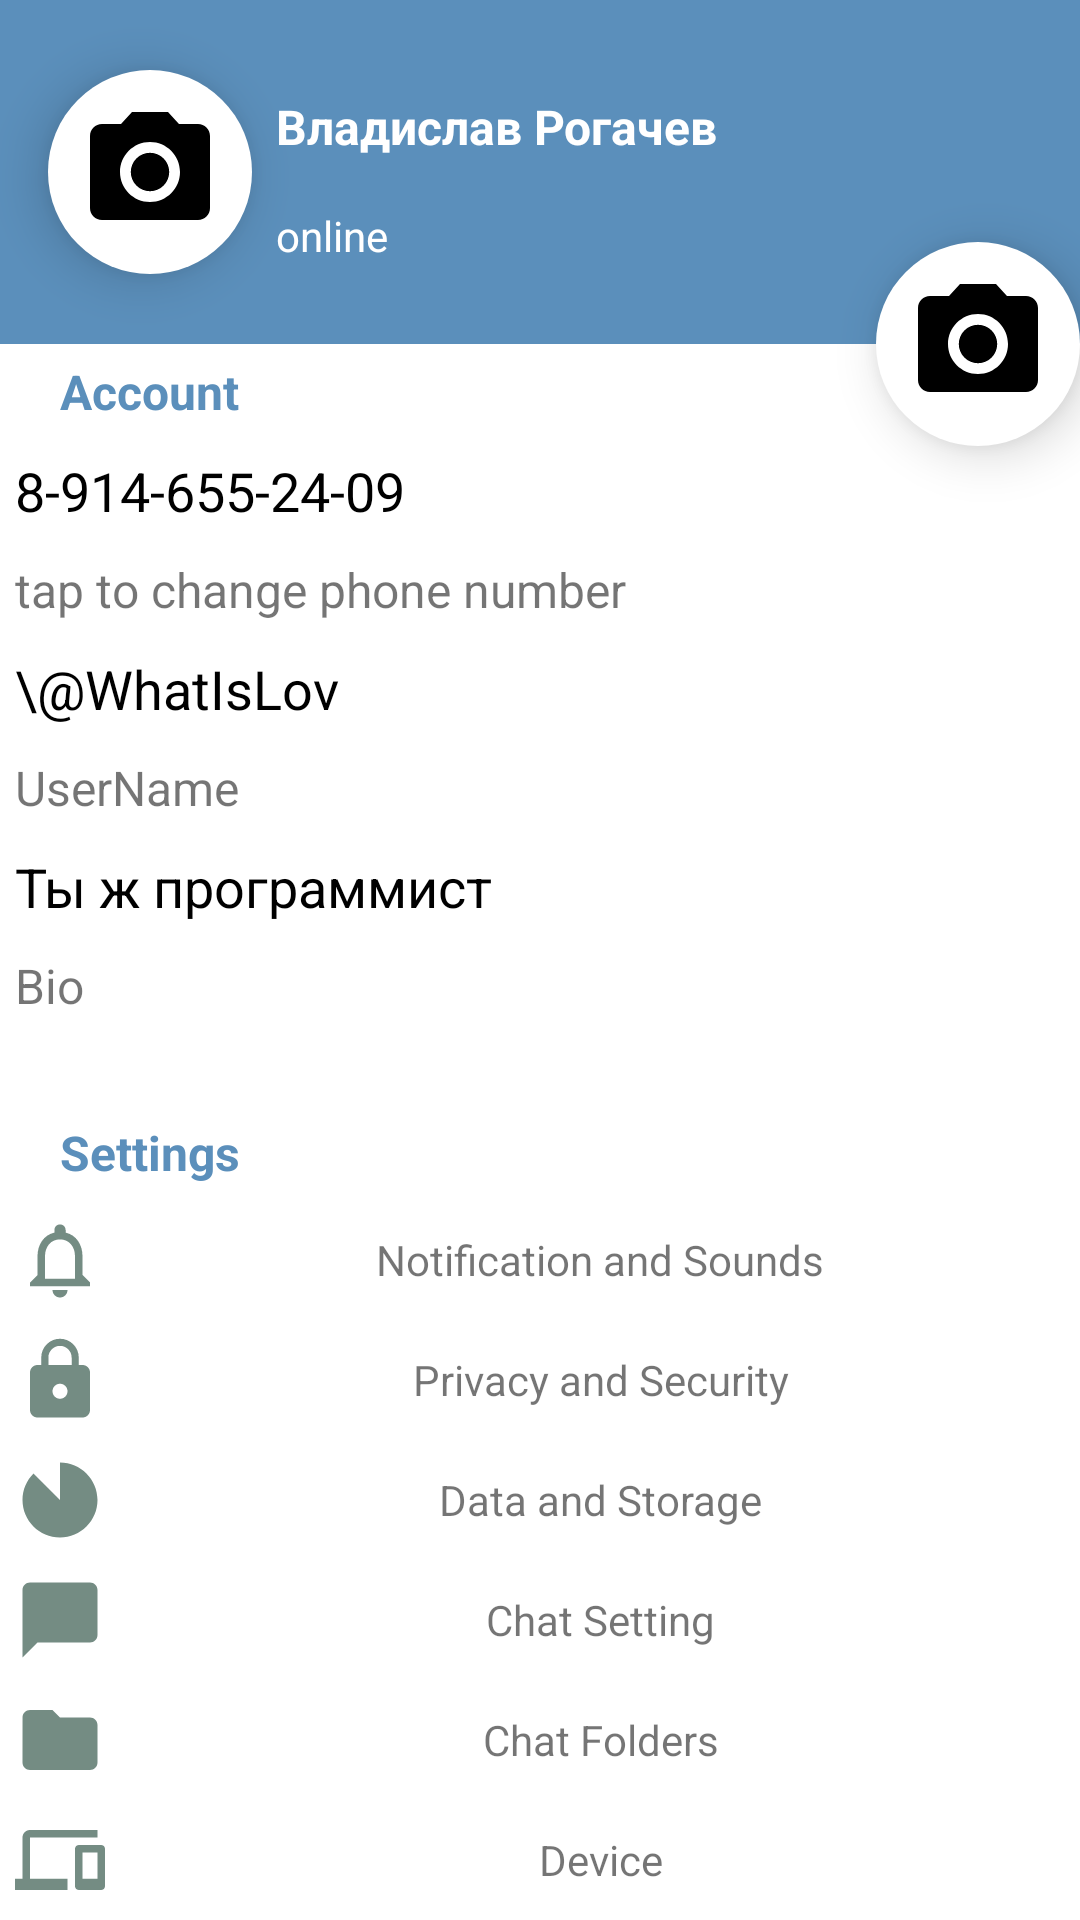

Named icons in this screenshot (1080*1920) and their centers, (x=x, y=y):
chat bubble: (x=60, y=1619)
incomplete circle: (x=60, y=1500)
lock: (x=60, y=1378)
photo camera: (x=150, y=172), (x=978, y=344)
